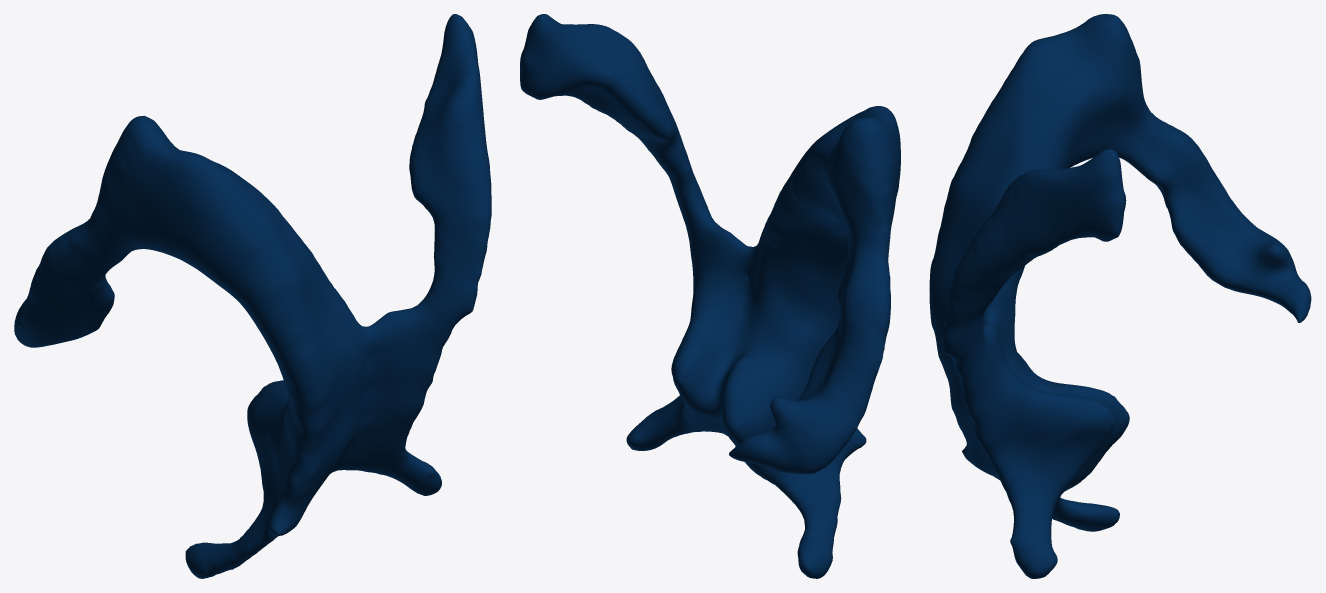
File: Ventricle.obj
3 views of the same model, side by side, from view 1: azimuth 30°, elevation 25°; view 2: azimuth 150°, elevation 25°; view 3: azimuth 270°, elevation 25° (orthographic). The views are drawn at different scales.
Visible parts, largest first — view 1: grp1; view 2: grp1; view 3: grp1.
Boxes of the visible parts, x1=… form: grp1: x1=14, y1=14, x2=491, y2=578; grp1: x1=520, y1=14, x2=900, y2=578; grp1: x1=929, y1=14, x2=1311, y2=578.
Size of the model in its own units: 71.83 by 85.04 by 56.94.
